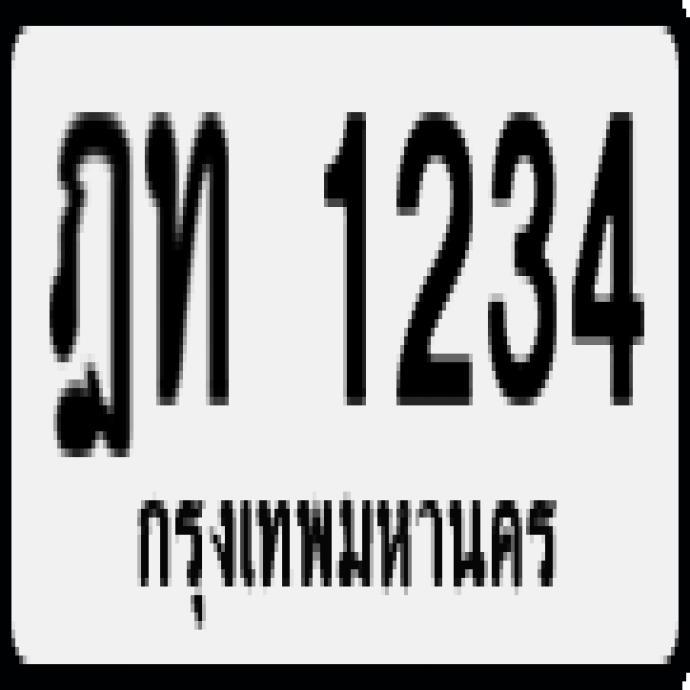1: (319, 101, 364, 398)
2: (390, 102, 469, 397)
3: (482, 102, 552, 397)
4: (567, 99, 639, 398)
A14: (43, 100, 128, 451)
A23: (142, 101, 225, 396)
BKK: (122, 464, 571, 637)
